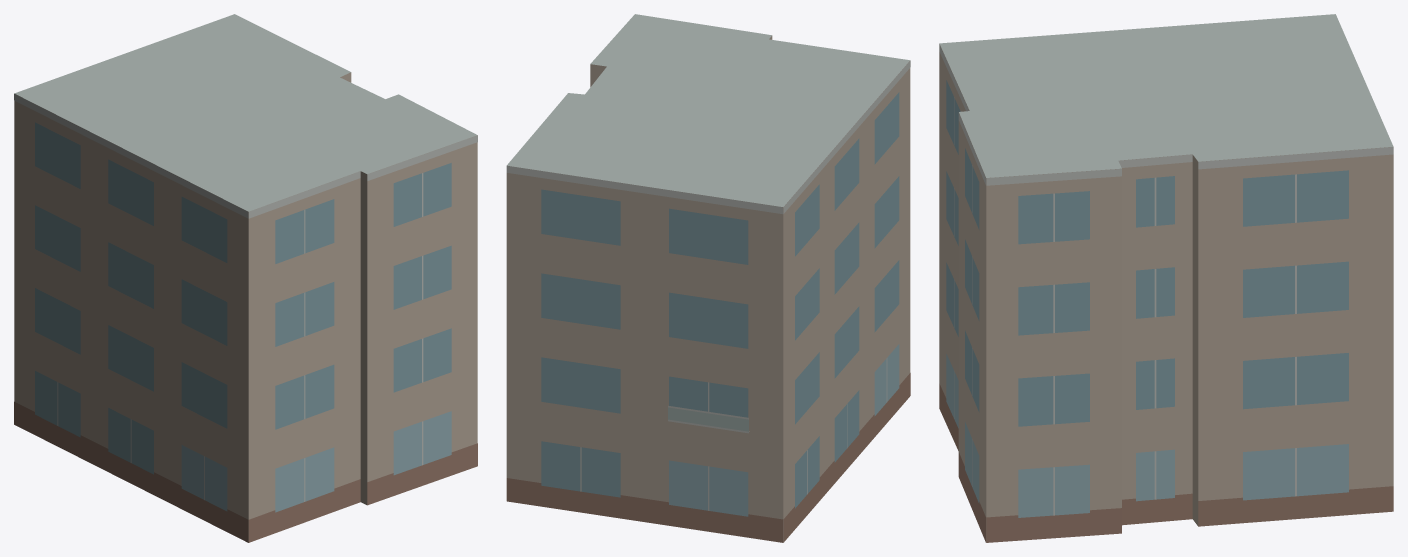
File: survey-upis-32872249.glb
3 renders of one model, left to right at view 1: azimuth 30°, elevation 25°; view 2: azimuth 150°, elevation 25°; view 3: azimuth 270°, elevation 25°, orthographic. The views are drawn at different scales.
Visible parts, largest first — view 1: survey-upis-32872249.tmp; view 2: survey-upis-32872249.tmp; view 3: survey-upis-32872249.tmp.
Part boxes in pixels (bbox=[...]): survey-upis-32872249.tmp: bbox=[14, 14, 477, 542]; survey-upis-32872249.tmp: bbox=[506, 14, 910, 542]; survey-upis-32872249.tmp: bbox=[939, 14, 1393, 542].
Bounding box in the file's own units: 11.1 × 11.5 × 12.99.
